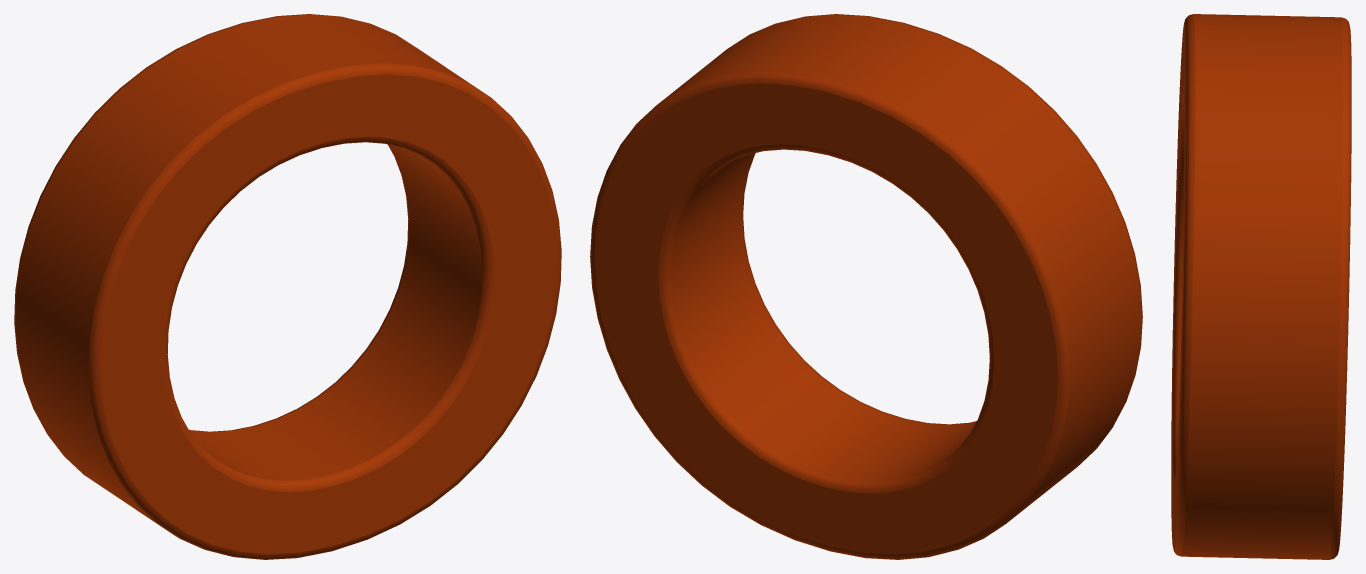
File: letters_O.obj
The picture shows the model from 3 angles, left to right: view 1: azimuth 30°, elevation 25°; view 2: azimuth 150°, elevation 25°; view 3: azimuth 270°, elevation 25°; orthographic projection. The views are drawn at different scales.
Visible parts, largest first — view 1: Text; view 2: Text; view 3: Text.
Part boxes in pixels (box(x1,y1,x2,y2)): Text: box(14, 14, 561, 559); Text: box(590, 14, 1142, 559); Text: box(1171, 14, 1351, 559).
Bounding box in the file's own units: 0.7585 × 0.7294 × 0.2446.
